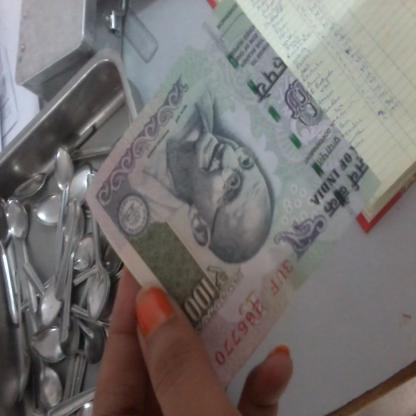Old100Front: (84, 0, 382, 386)
